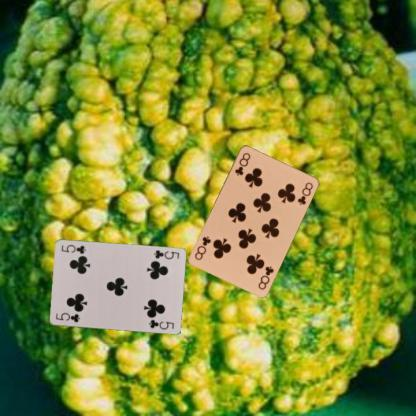5c: (53, 310, 81, 324), (152, 247, 180, 261)
8c: (255, 263, 275, 290), (233, 150, 252, 176)
